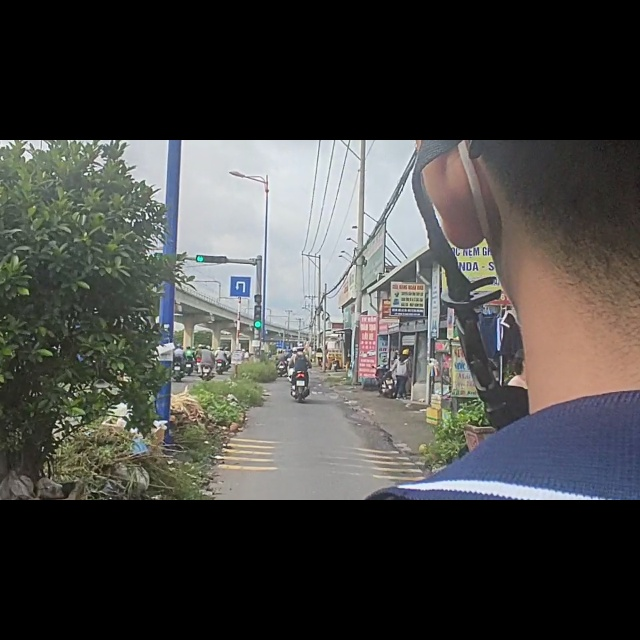bien_chi_dan: (229, 239, 252, 283)
